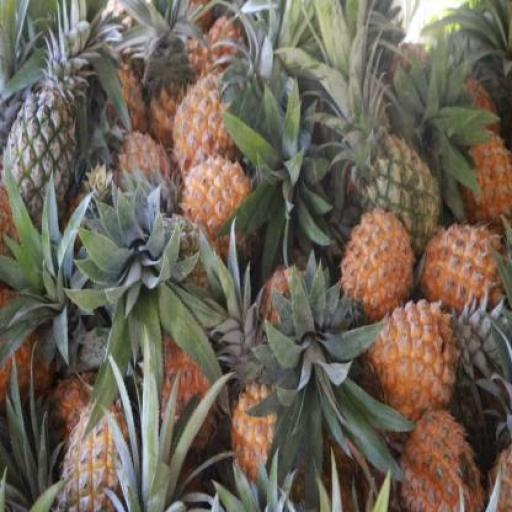Pineapple - v8 v1: (370, 294, 456, 416), (395, 411, 483, 512), (342, 210, 419, 325), (420, 219, 504, 316), (173, 76, 244, 178), (179, 154, 251, 242)
